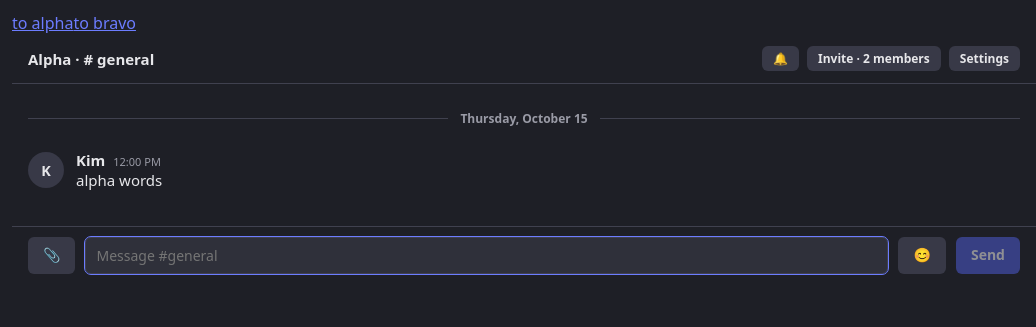
Test: moving to another channel › opens a channel looked at before at once, and then shows what the server says now
The image size is (1036, 327).
Step 1. Click the link "to bravo" → coordinates (105, 23), box [73, 12, 136, 34]
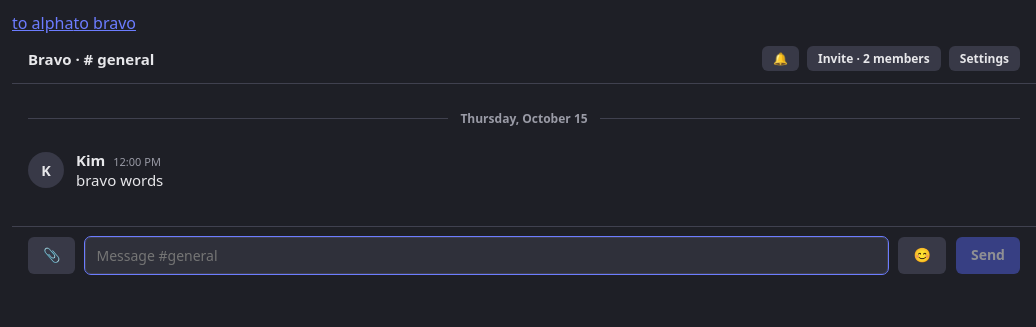
Step 2. Click the link "to alpha" → coordinates (43, 23), box [12, 12, 73, 34]
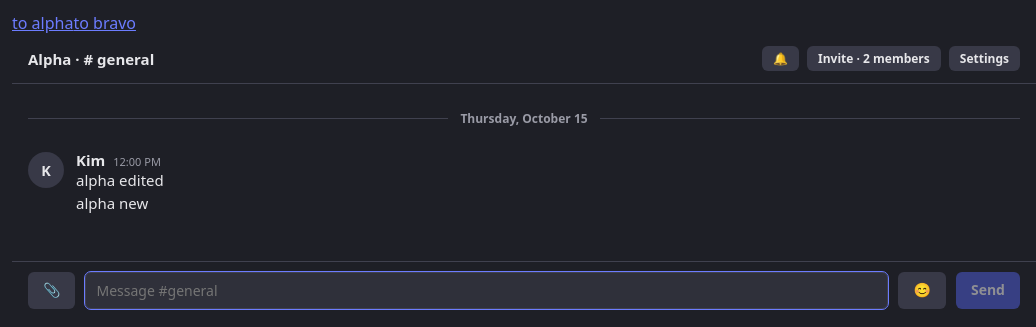
Expected: the text "bravo words" is gone
Expected: the text "alpha edited" is shown, [76, 170, 164, 190]
Expected: the text "alpha new" is shown, [76, 193, 148, 213]
